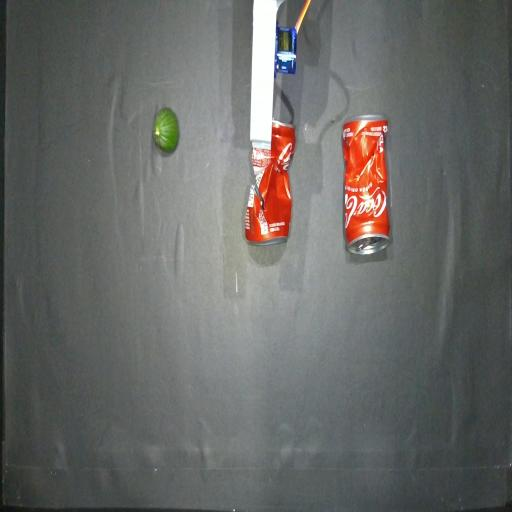higo: (153, 107, 179, 152)
lata_defectuoso: (342, 115, 390, 254), (245, 120, 295, 245)
